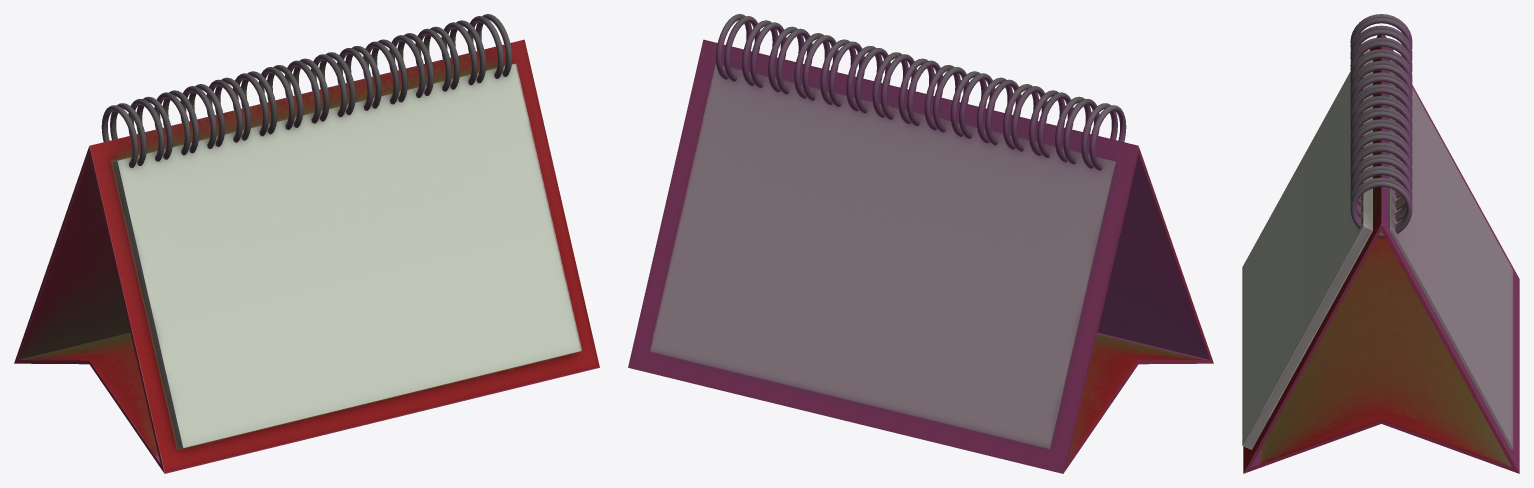
The model's file is Desk Calendar.fbx.
3 renders of one model, left to right at view 1: azimuth 30°, elevation 25°; view 2: azimuth 150°, elevation 25°; view 3: azimuth 270°, elevation 25°, orthographic. The views are drawn at different scales.
Parts seen in each view (by area): view 1: Desk Calendar; view 2: Desk Calendar; view 3: Desk Calendar.
Boxes of the visible parts, x1=… form: Desk Calendar: x1=14, y1=14, x2=599, y2=473; Desk Calendar: x1=628, y1=14, x2=1213, y2=473; Desk Calendar: x1=1242, y1=14, x2=1519, y2=473.
Size of the model in its own units: 37.54 by 25.03 by 22.58.
